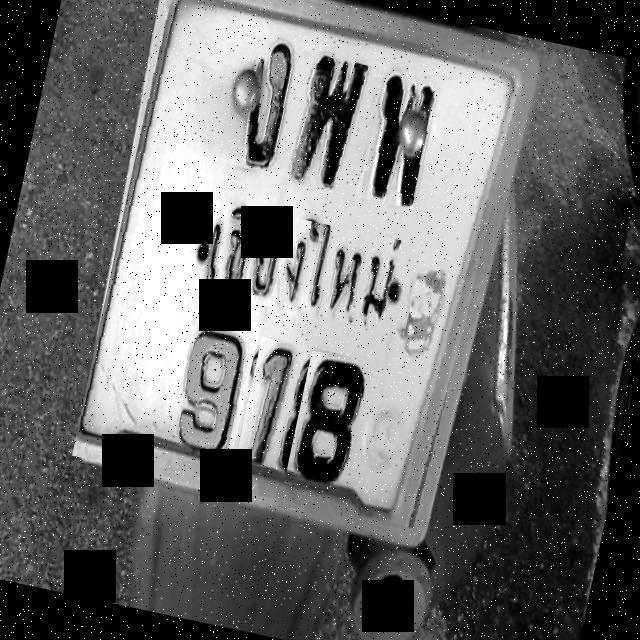letters: (142, 304, 260, 469), (206, 29, 311, 175), (352, 66, 450, 212), (284, 53, 379, 193), (284, 351, 374, 496), (235, 336, 307, 469)
license-plate: (80, 0, 530, 525)
province: (167, 194, 423, 340)
